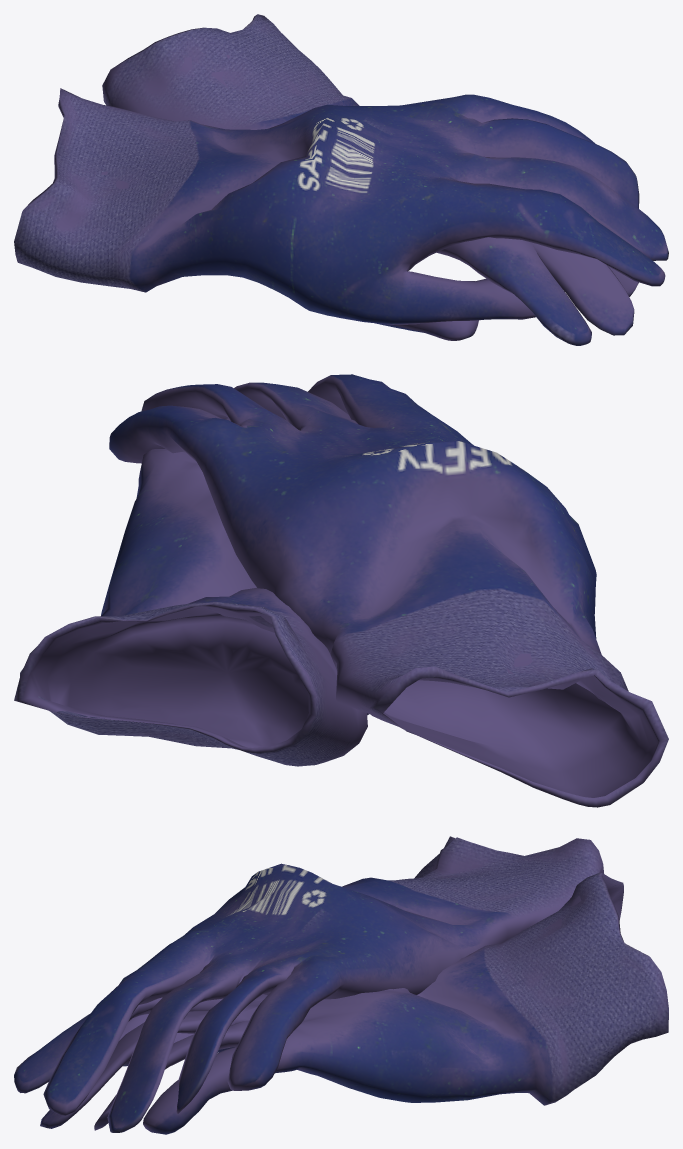
File: gloves.glb
The picture shows the model from 3 angles, top to bottom: view 1: azimuth 30°, elevation 25°; view 2: azimuth 150°, elevation 25°; view 3: azimuth 270°, elevation 25°; orthographic projection. The views are drawn at different scales.
Visible parts, largest first — view 1: Gloves_LP; view 2: Gloves_LP; view 3: Gloves_LP.
Part boxes in pixels (bbox=[...]): Gloves_LP: bbox=[14, 14, 668, 345]; Gloves_LP: bbox=[14, 374, 668, 807]; Gloves_LP: bbox=[14, 836, 668, 1134].
Bounding box in the file's own units: 0.9474 × 0.3077 × 1.02.
Materials: 1 (1 with a texture image).
